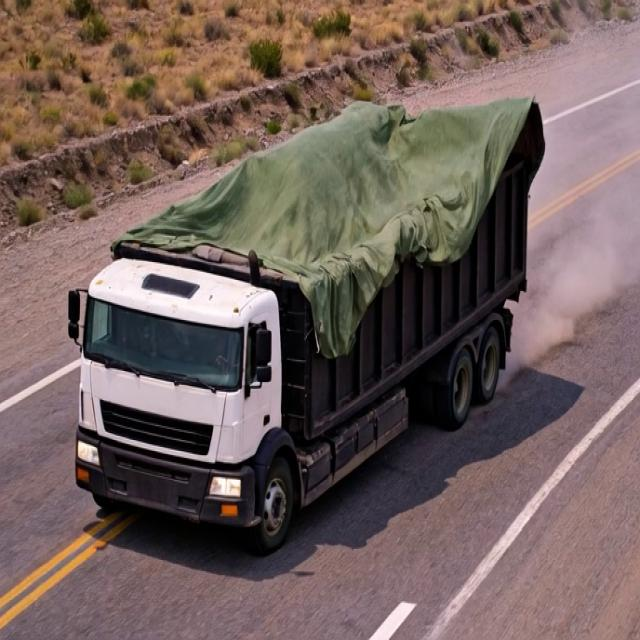Box: (110, 85, 552, 267)
Truck: (64, 50, 573, 548)
